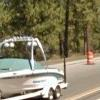Boat: (1, 30, 69, 99)
